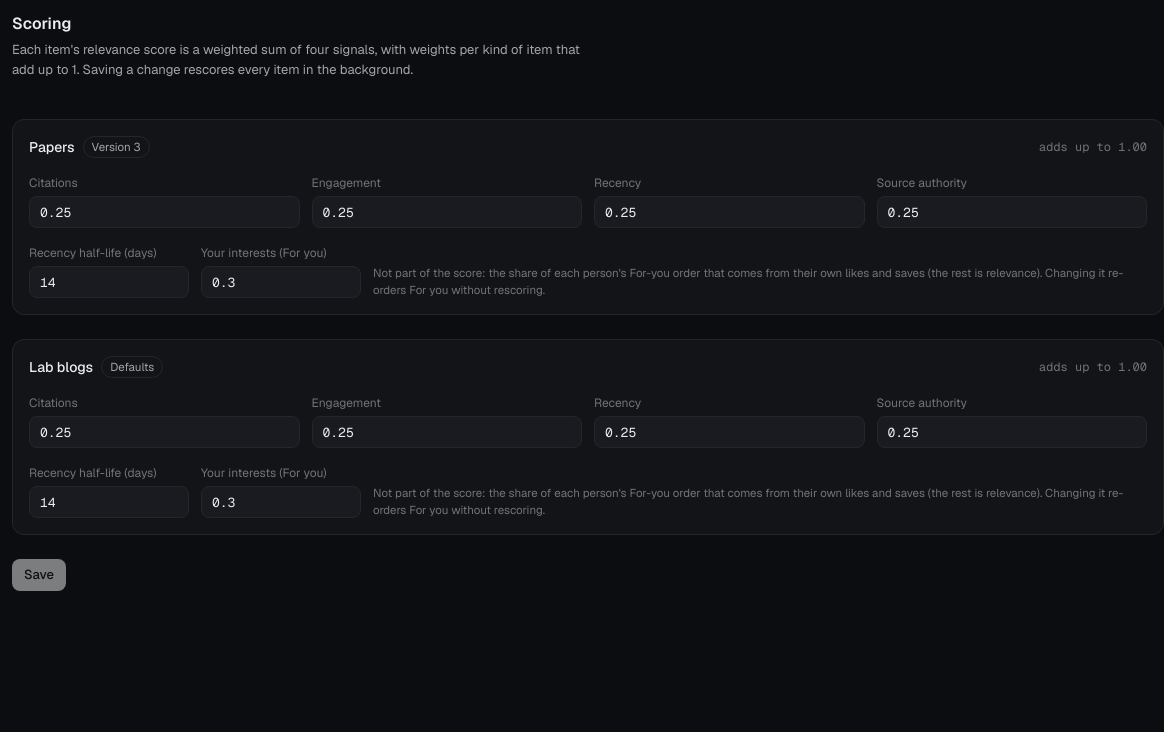
Scenario: ScoringSettings › saves an edit and says rescoring started
Replace the text in the number field labelled "Citations" below "Papers" with "0.35" at (164, 212), box [29,196,300,228]
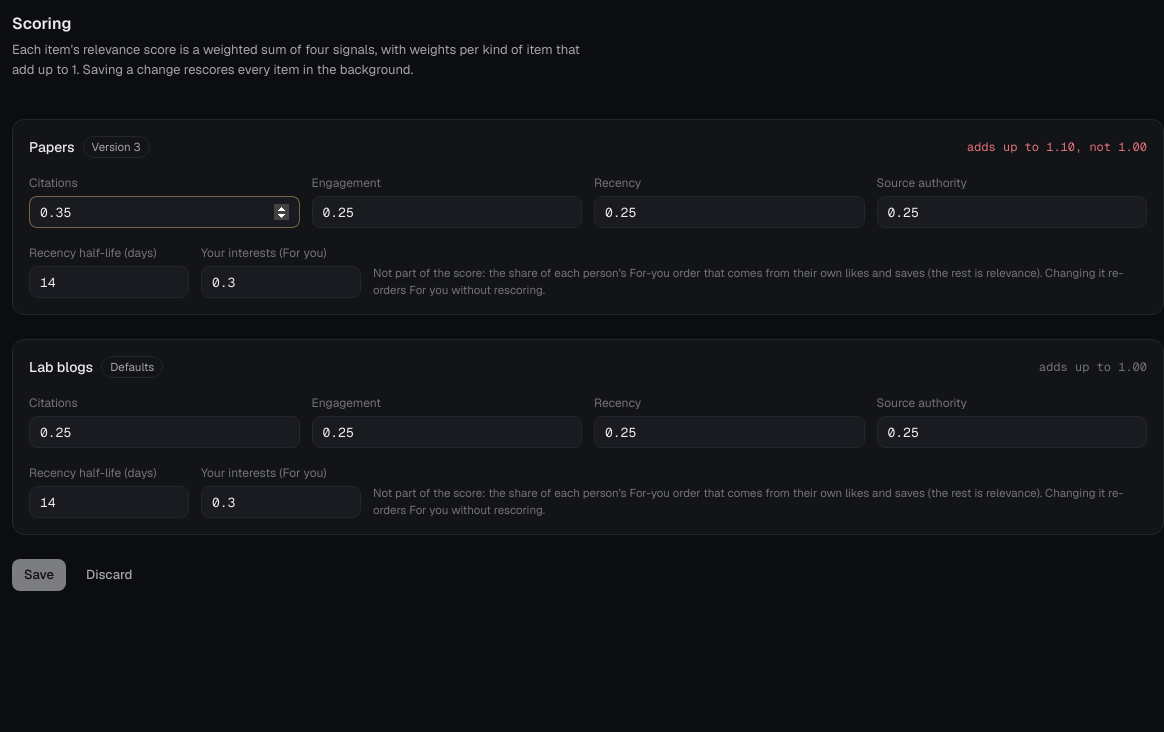
Replace the text in the number field labelled "Engagement" below "Papers" with "0.15" at (447, 212), box [312,196,582,228]
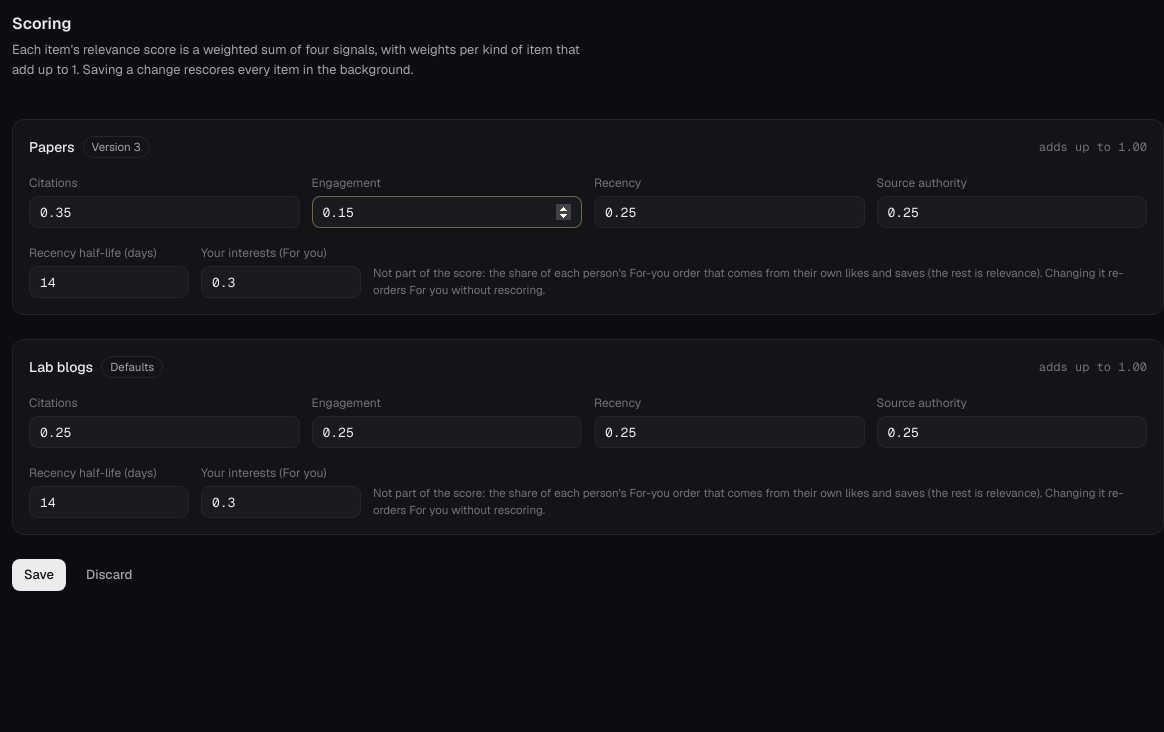
Click the button "Save" at (39, 575), box [12,559,66,591]
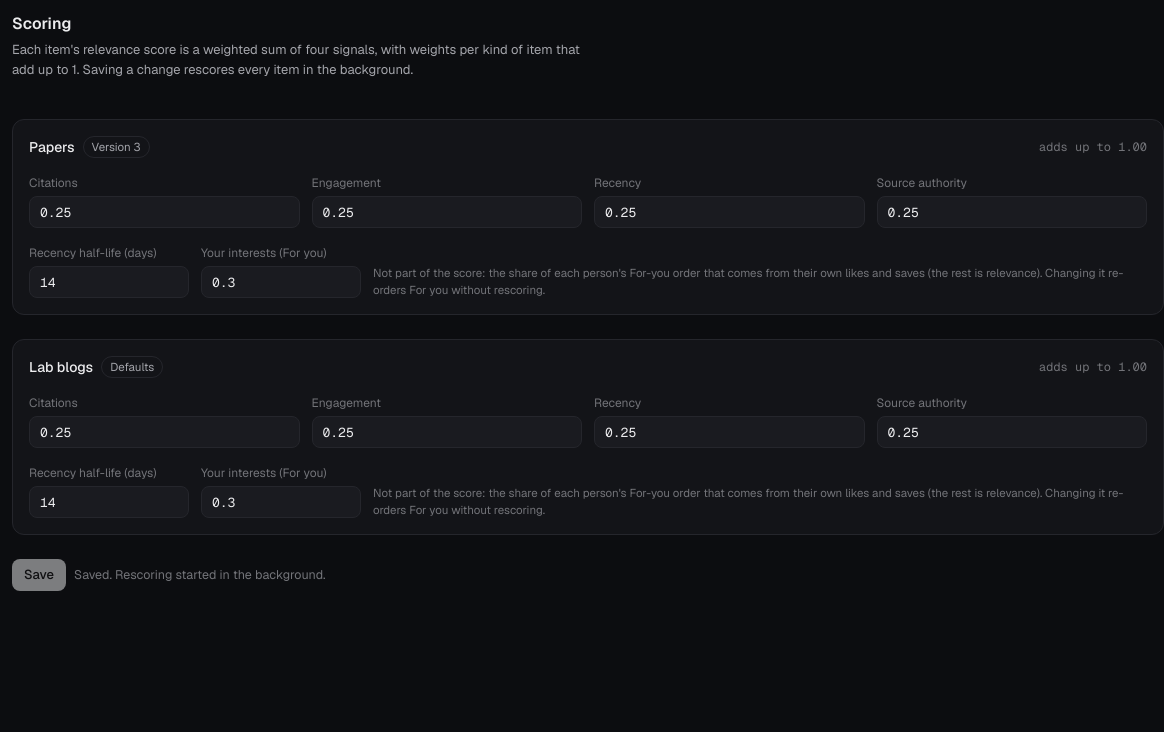
Check: the text "Saved. Rescoring started in the background." is shown, box [74,566,326,584]
